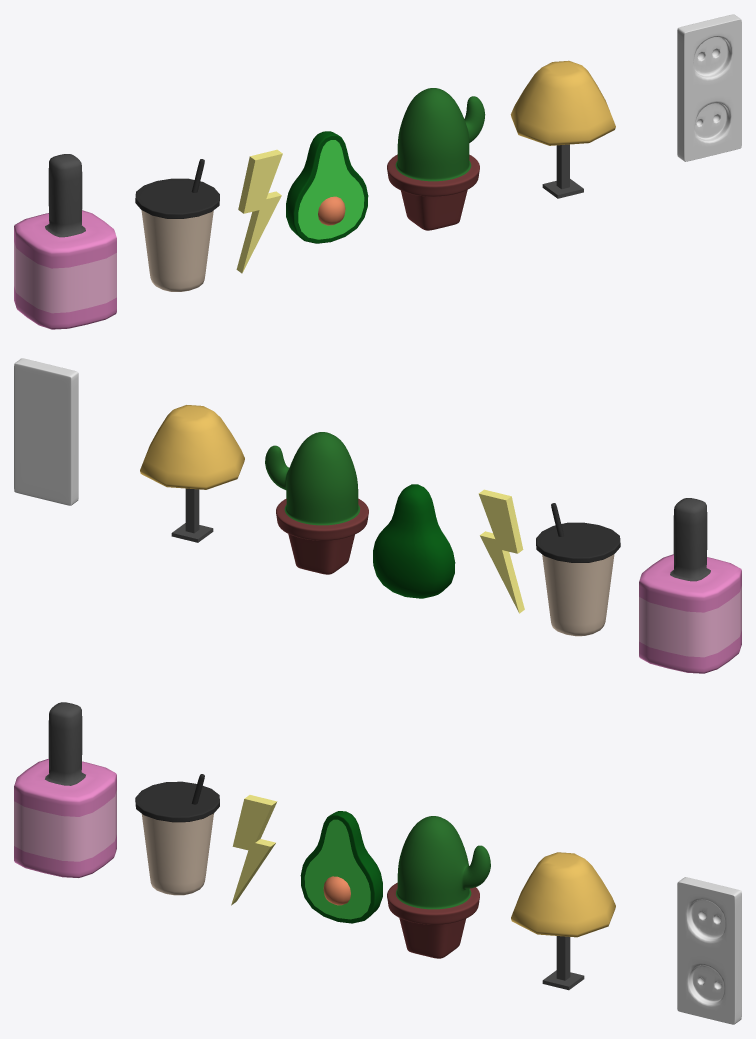
Rendered from van alles en nog wat3.fbx.
The picture shows the model from 3 angles, top to bottom: view 1: azimuth 30°, elevation 25°; view 2: azimuth 150°, elevation 25°; view 3: azimuth 330°, elevation 25°; orthographic projection.
Visible parts, largest first — view 1: Cube.010, Cube.013, Cube.015, Cube.014, Cube.009, Cube.012, Plane; view 2: Cube.010, Cube.013, Cube.015, Cube.014, Cube.009, Cube.012, Plane; view 3: Cube.010, Cube.013, Cube.015, Cube.014, Cube.009, Cube.012, Plane.
Part boxes in pixels (x1,y1,x2,y2): Cube.010: [14, 154, 116, 329]; Cube.013: [387, 88, 485, 230]; Cube.015: [677, 14, 741, 161]; Cube.014: [510, 60, 615, 198]; Cube.009: [135, 159, 219, 291]; Cube.012: [286, 131, 368, 243]; Plane: [236, 149, 282, 273]; Cube.010: [639, 498, 741, 673]; Cube.013: [265, 432, 368, 574]; Cube.015: [14, 358, 78, 505]; Cube.014: [140, 405, 244, 542]; Cube.009: [536, 503, 620, 636]; Cube.012: [373, 484, 455, 598]; Plane: [478, 489, 524, 613]; Cube.010: [14, 702, 116, 877]; Cube.013: [387, 816, 490, 958]; Cube.015: [677, 877, 741, 1024]; Cube.014: [511, 852, 615, 990]; Cube.009: [135, 774, 219, 895]; Cube.012: [300, 811, 382, 923]; Plane: [231, 795, 277, 905].
Bounding box in the file's own units: 1818 × 374 × 234.
